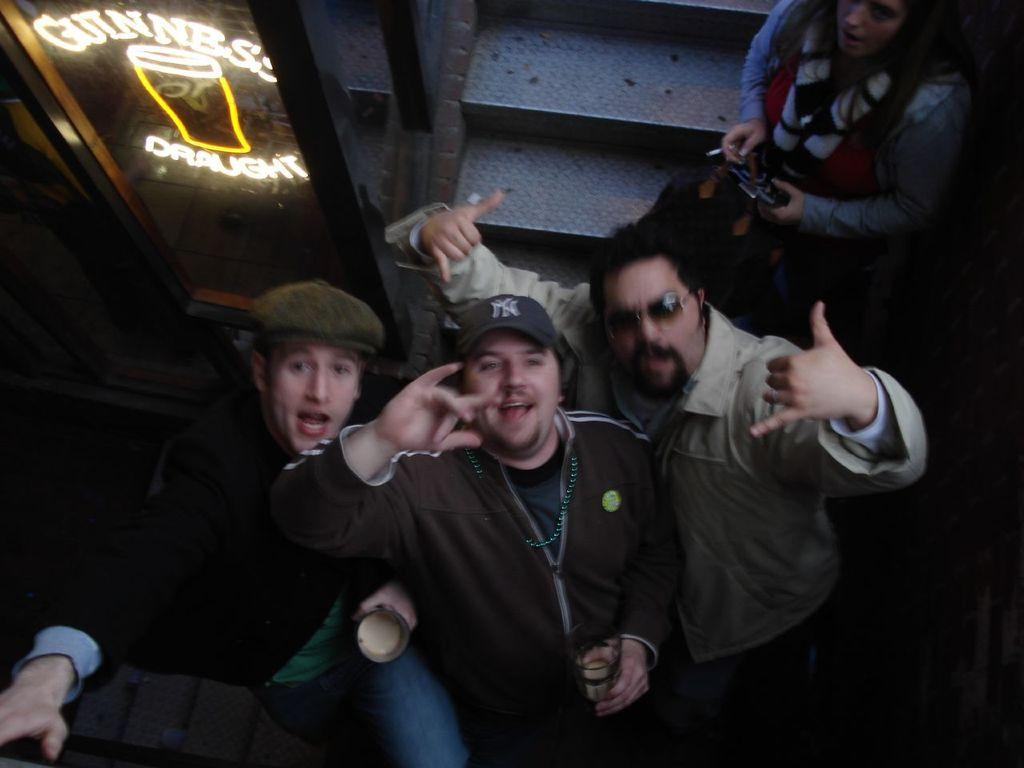Hat: (456, 292, 560, 348)
